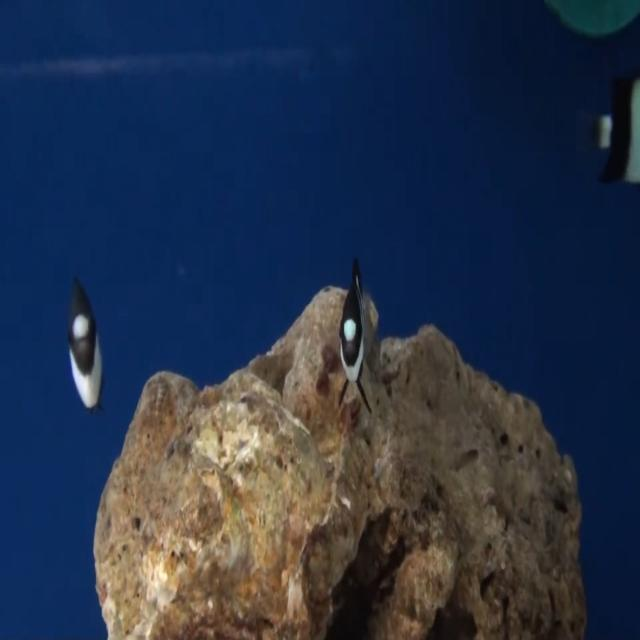ThreeStripedDamselfish: (65, 277, 105, 411), (339, 275, 372, 414)
